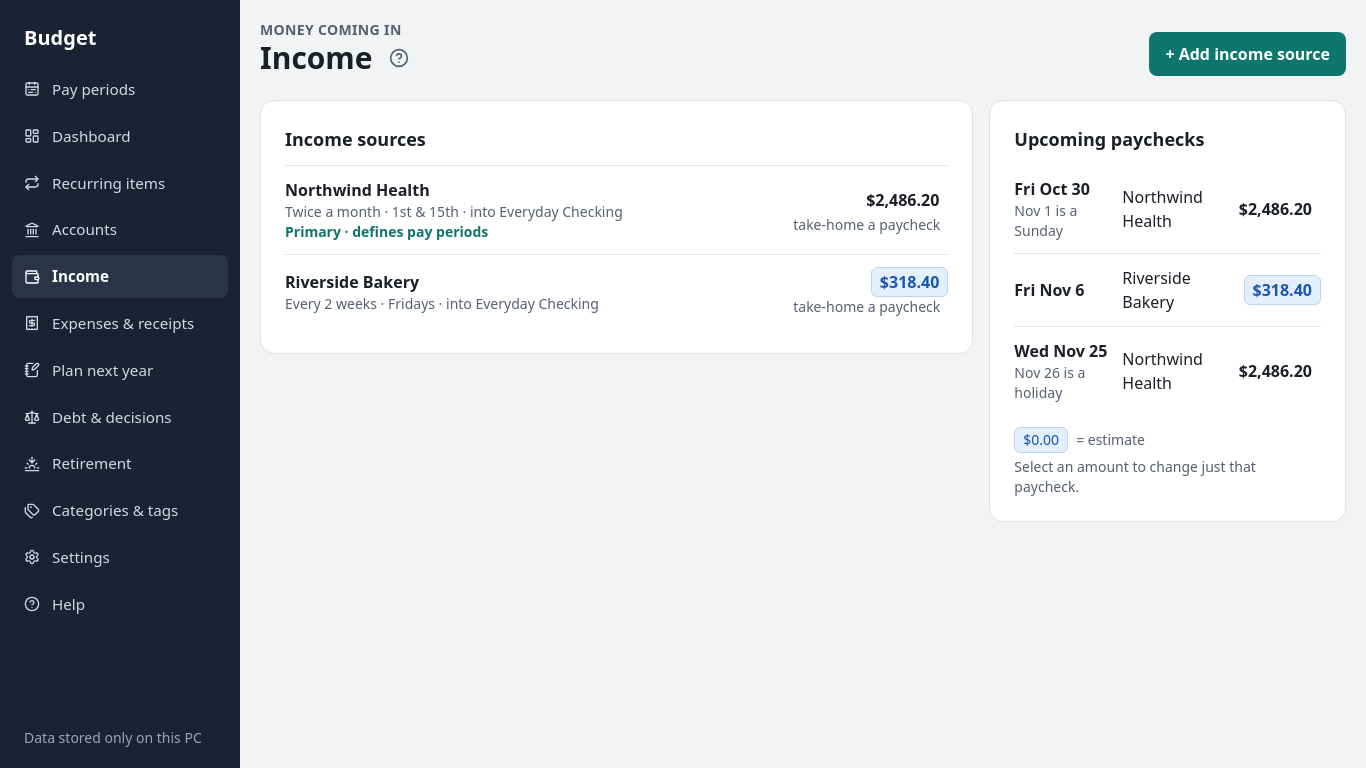
Test: income screen › types over one paycheck's amount
The image size is (1366, 768).
Click the button named "Change the amount for Riverside Bakery, Nov 6". click: point(1282, 290)
box: [1244, 268, 1321, 312]
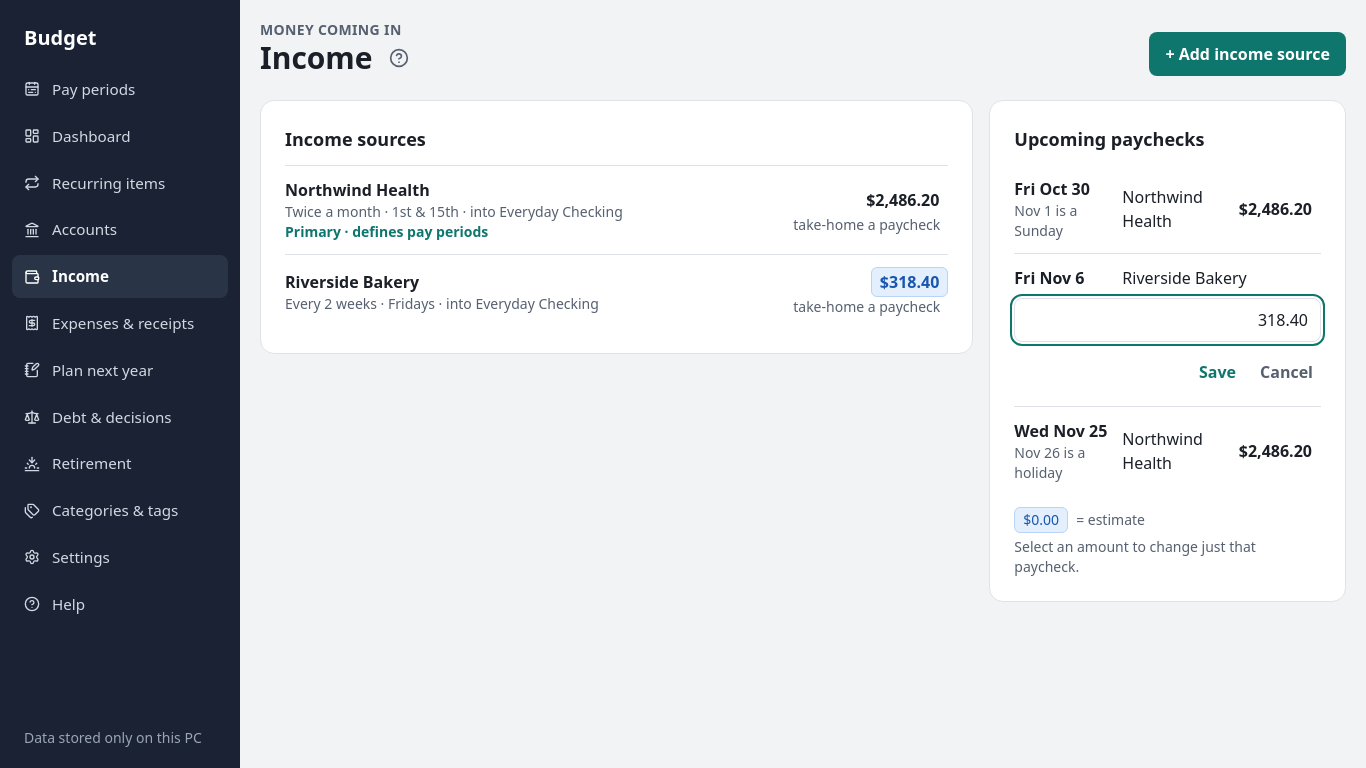
Now the field named "Amount for Riverside Bakery, Nov 6" holds "318.40"
Replace the text in the field named "Amount for Riverside Bakery, Nov 6" with "290.15". click: point(1168, 320)
box: [1014, 298, 1321, 342]
Then press Enter
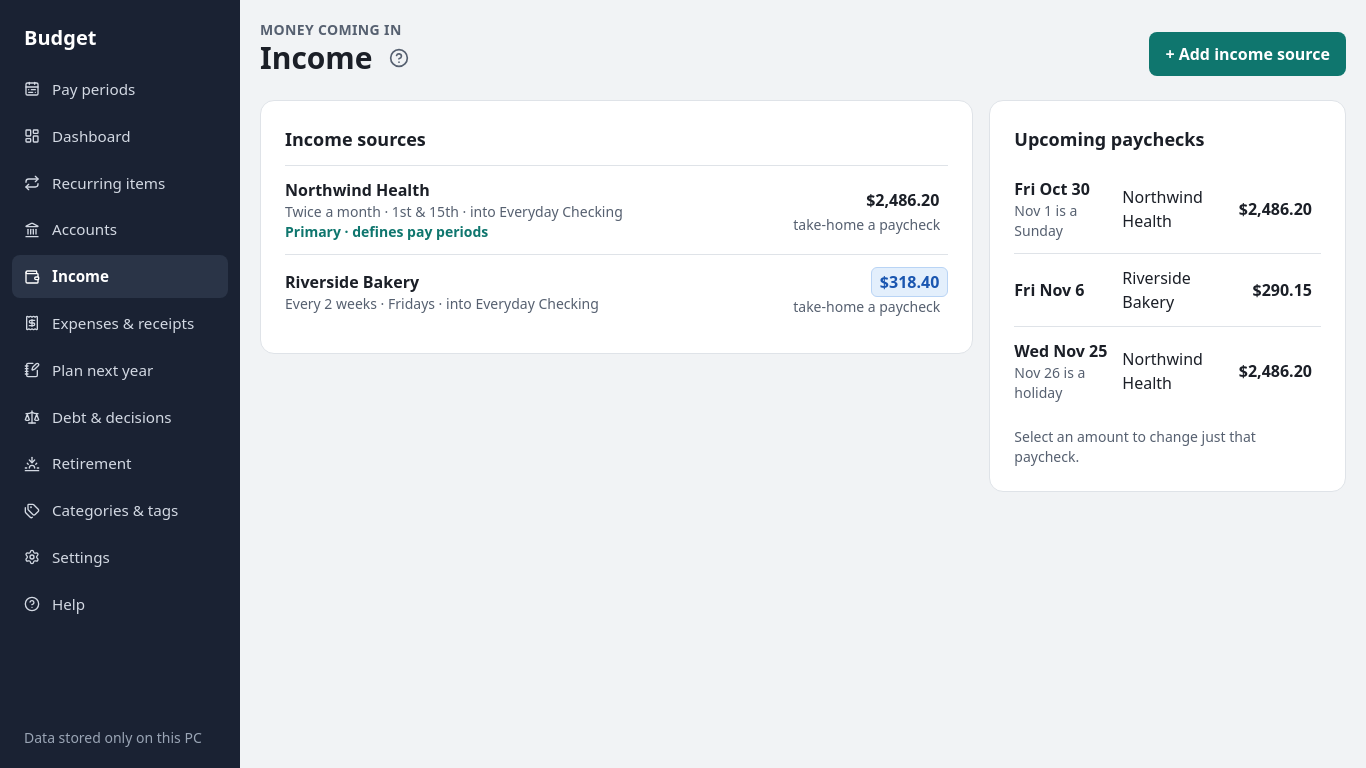
Now the button named "Change the amount for Riverside Bakery, Nov 6" reads "$290.15", box [1244, 268, 1321, 312]
Now the button named "Change the amount for Riverside Bakery, Nov 6" no longer shows "estimate", box [1244, 268, 1321, 312]
